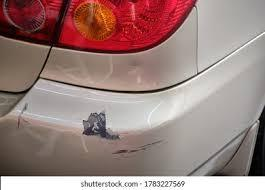scratch: (76, 105, 171, 163), (14, 97, 34, 128)
